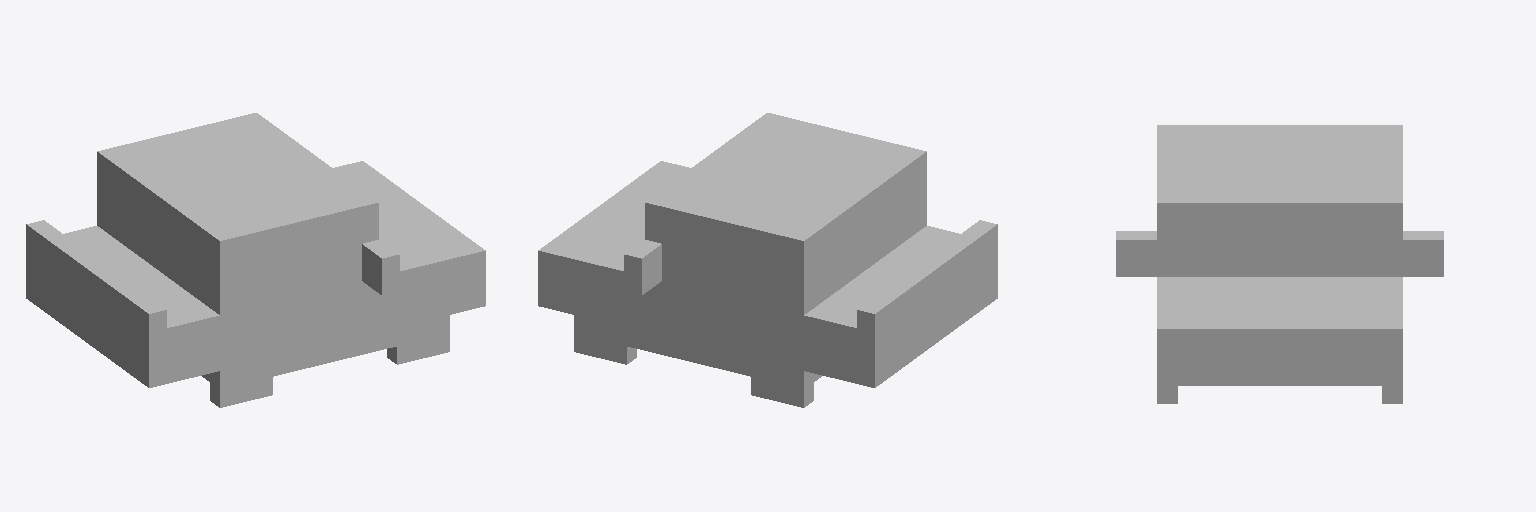
File: kocsi.2(1).obj
3 views of the same model, side by side, from view 1: azimuth 30°, elevation 25°; view 2: azimuth 150°, elevation 25°; view 3: azimuth 270°, elevation 25° (orthographic).
Size of the model in its own units: 19 by 9 by 16.